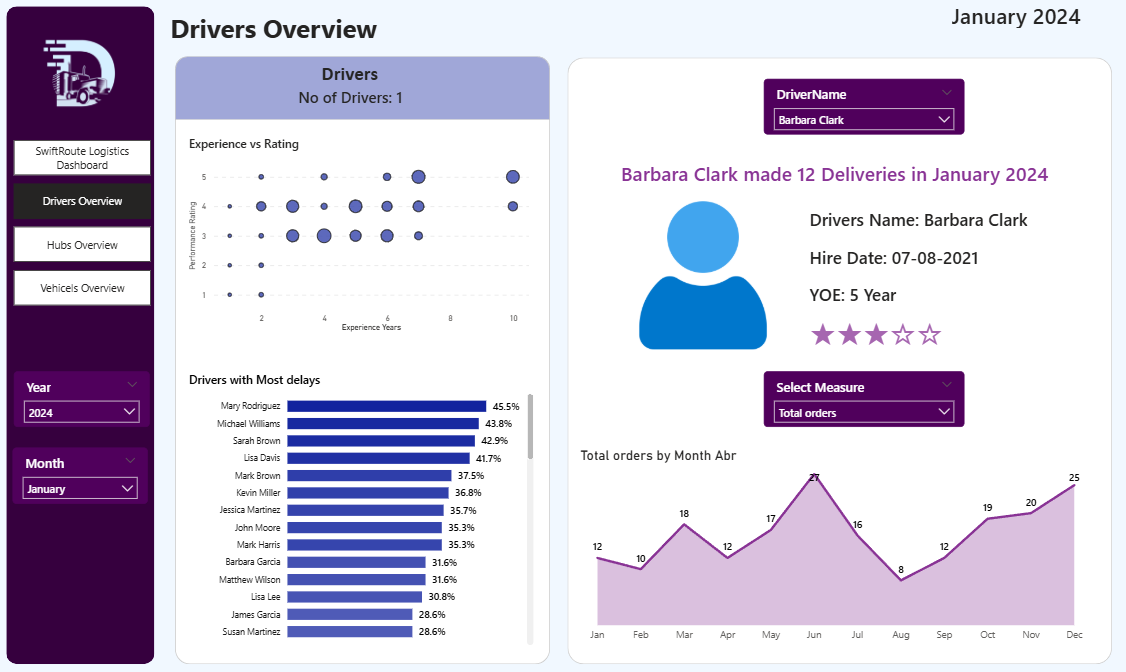

Layout of this report page (visuals, bound fields, positions):
{"tool":"powerbi","page":{"name":"Drivers Overview","canvas":[1450,850],"ordinal":1},"visuals":[{"type":"shape","box":[14,14,185,820.8],"z":0},{"type":"textbox","box":[213.9,14.1,499.6,62.4],"z":1000},{"type":"slicer","fields":{"Values":["Date Table.Year"]},"box":[23.2,468.9,169.4,70],"z":2000},{"type":"slicer","fields":{"Values":["Date Table.Month"]},"box":[21.8,563.8,168.6,70.3],"z":3000},{"type":"shape","box":[223.8,77.7,467.9,757],"z":4000},{"type":"shape","box":[223.8,76.2,467.9,79.3],"z":5000},{"type":"cardVisual","fields":{"Data":["Drivers.No of Driver"]},"box":[334.2,104.1,219.2,43.5],"z":6000},{"type":"textbox","box":[374.6,77.7,136.8,51.3],"z":7000},{"type":"scatterChart","title":"Experience vs Rating","fields":{"X":["Drivers.Experience Years"],"Y":["Drivers.Performance Rating"],"Size":["Sum(Drivers.Experience Years)1"]},"box":[236.3,174.1,439.9,250.3],"z":8000},{"type":"barChart","title":"Drivers with Most delays","fields":{"Y":["Orders.Delayed Delivery Rate"],"Category":["Drivers.DriverName"]},"box":[236.3,469.4,439.9,346.6],"z":9000},{"type":"image","box":[38.9,46.6,133.7,108.8],"z":10000},{"type":"cardVisual","fields":{"Data":["Orders.Year Month Title"]},"box":[1158.1,3.1,231.6,43.5],"z":11000},{"type":"shape","box":[713.5,77.7,679.3,757],"z":12000},{"type":"slicer","fields":{"Values":["Drivers.DriverName"]},"box":[959.1,104.1,250.3,70],"z":13000},{"type":"cardVisual","fields":{"Data":["Drivers.Drivers Title"]},"box":[710.4,199,673.1,43.5],"z":14000},{"type":"cardVisual","fields":{"Data":["Drivers.Drivers Name Title","Drivers.Hire Date Title","Drivers.YOE","Drivers.Star Rating"]},"box":[987.1,242.5,343.5,214.5],"z":15000},{"type":"image","box":[780.3,258,206.7,185],"z":16000},{"type":"areaChart","fields":{"Y":["Orders.Total orders"],"Category":["Date Table.Month Abr"]},"box":[724.4,564.3,648.2,251.8],"z":17000},{"type":"slicer","fields":{"Values":["Select Measure.Select Measure"]},"box":[959.1,469.4,250.3,70],"z":18000},{"type":"pageNavigator","box":[23.4,180.9,171.5,209],"z":18001}]}

Visuals, with their boxes in screenshot pixels (x1, y1, x2, y2), scaled from the page's 1450x850 canvas onto the 1126x672 screenshot:
shape: (x1=11, y1=11, x2=155, y2=660)
textbox: (x1=166, y1=11, x2=554, y2=60)
slicer - Date Table.Year: (x1=18, y1=371, x2=150, y2=426)
slicer - Date Table.Month: (x1=17, y1=446, x2=148, y2=501)
shape: (x1=174, y1=61, x2=537, y2=660)
shape: (x1=174, y1=60, x2=537, y2=123)
cardVisual - Drivers.No of Driver: (x1=260, y1=82, x2=430, y2=117)
textbox: (x1=291, y1=61, x2=397, y2=102)
"Experience vs Rating" scatterChart: (x1=183, y1=138, x2=525, y2=336)
"Drivers with Most delays" barChart: (x1=183, y1=371, x2=525, y2=645)
image: (x1=30, y1=37, x2=134, y2=123)
cardVisual - Orders.Year Month Title: (x1=899, y1=2, x2=1079, y2=37)
shape: (x1=554, y1=61, x2=1082, y2=660)
slicer - Drivers.DriverName: (x1=745, y1=82, x2=939, y2=138)
cardVisual - Drivers.Drivers Title: (x1=552, y1=157, x2=1074, y2=192)
cardVisual - Drivers.Drivers Name Title x Drivers.Hire Date Title: (x1=767, y1=192, x2=1033, y2=361)
image: (x1=606, y1=204, x2=766, y2=350)
areaChart - Orders.Total orders x Date Table.Month Abr: (x1=563, y1=446, x2=1066, y2=645)
slicer - Select Measure.Select Measure: (x1=745, y1=371, x2=939, y2=426)
pageNavigator: (x1=18, y1=143, x2=151, y2=308)
